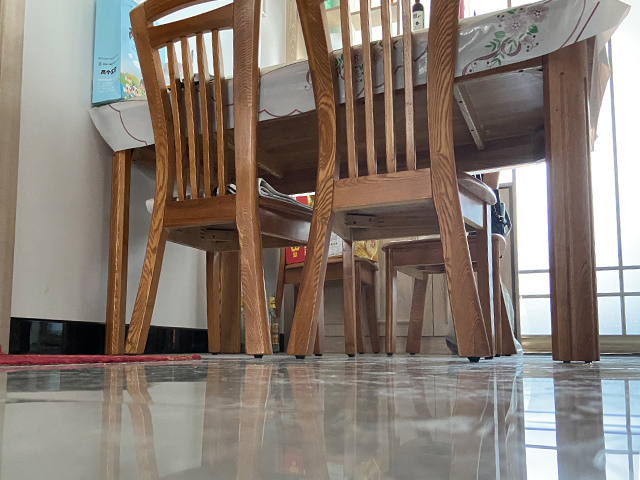carpet: (1, 352, 202, 367)
stool: (287, 1, 504, 363), (125, 1, 313, 360), (381, 229, 507, 362), (274, 248, 381, 355)
table: (86, 1, 633, 364)
